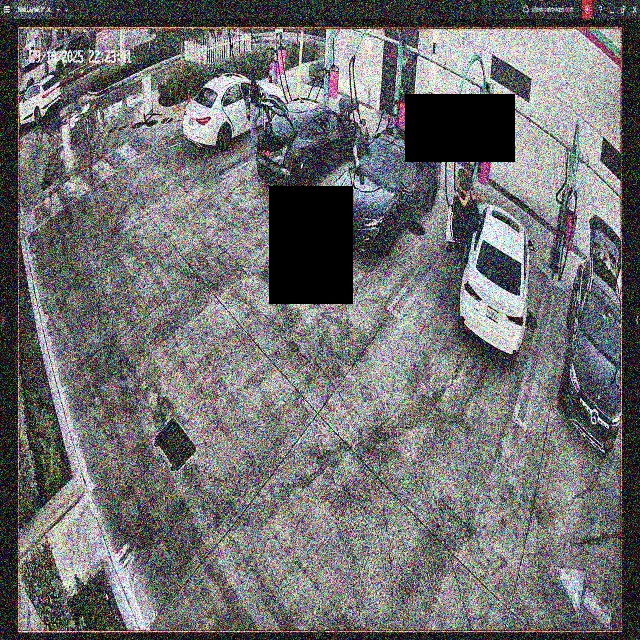Car: (445, 173, 534, 358), (328, 116, 443, 258), (257, 92, 370, 197), (183, 72, 285, 160)
